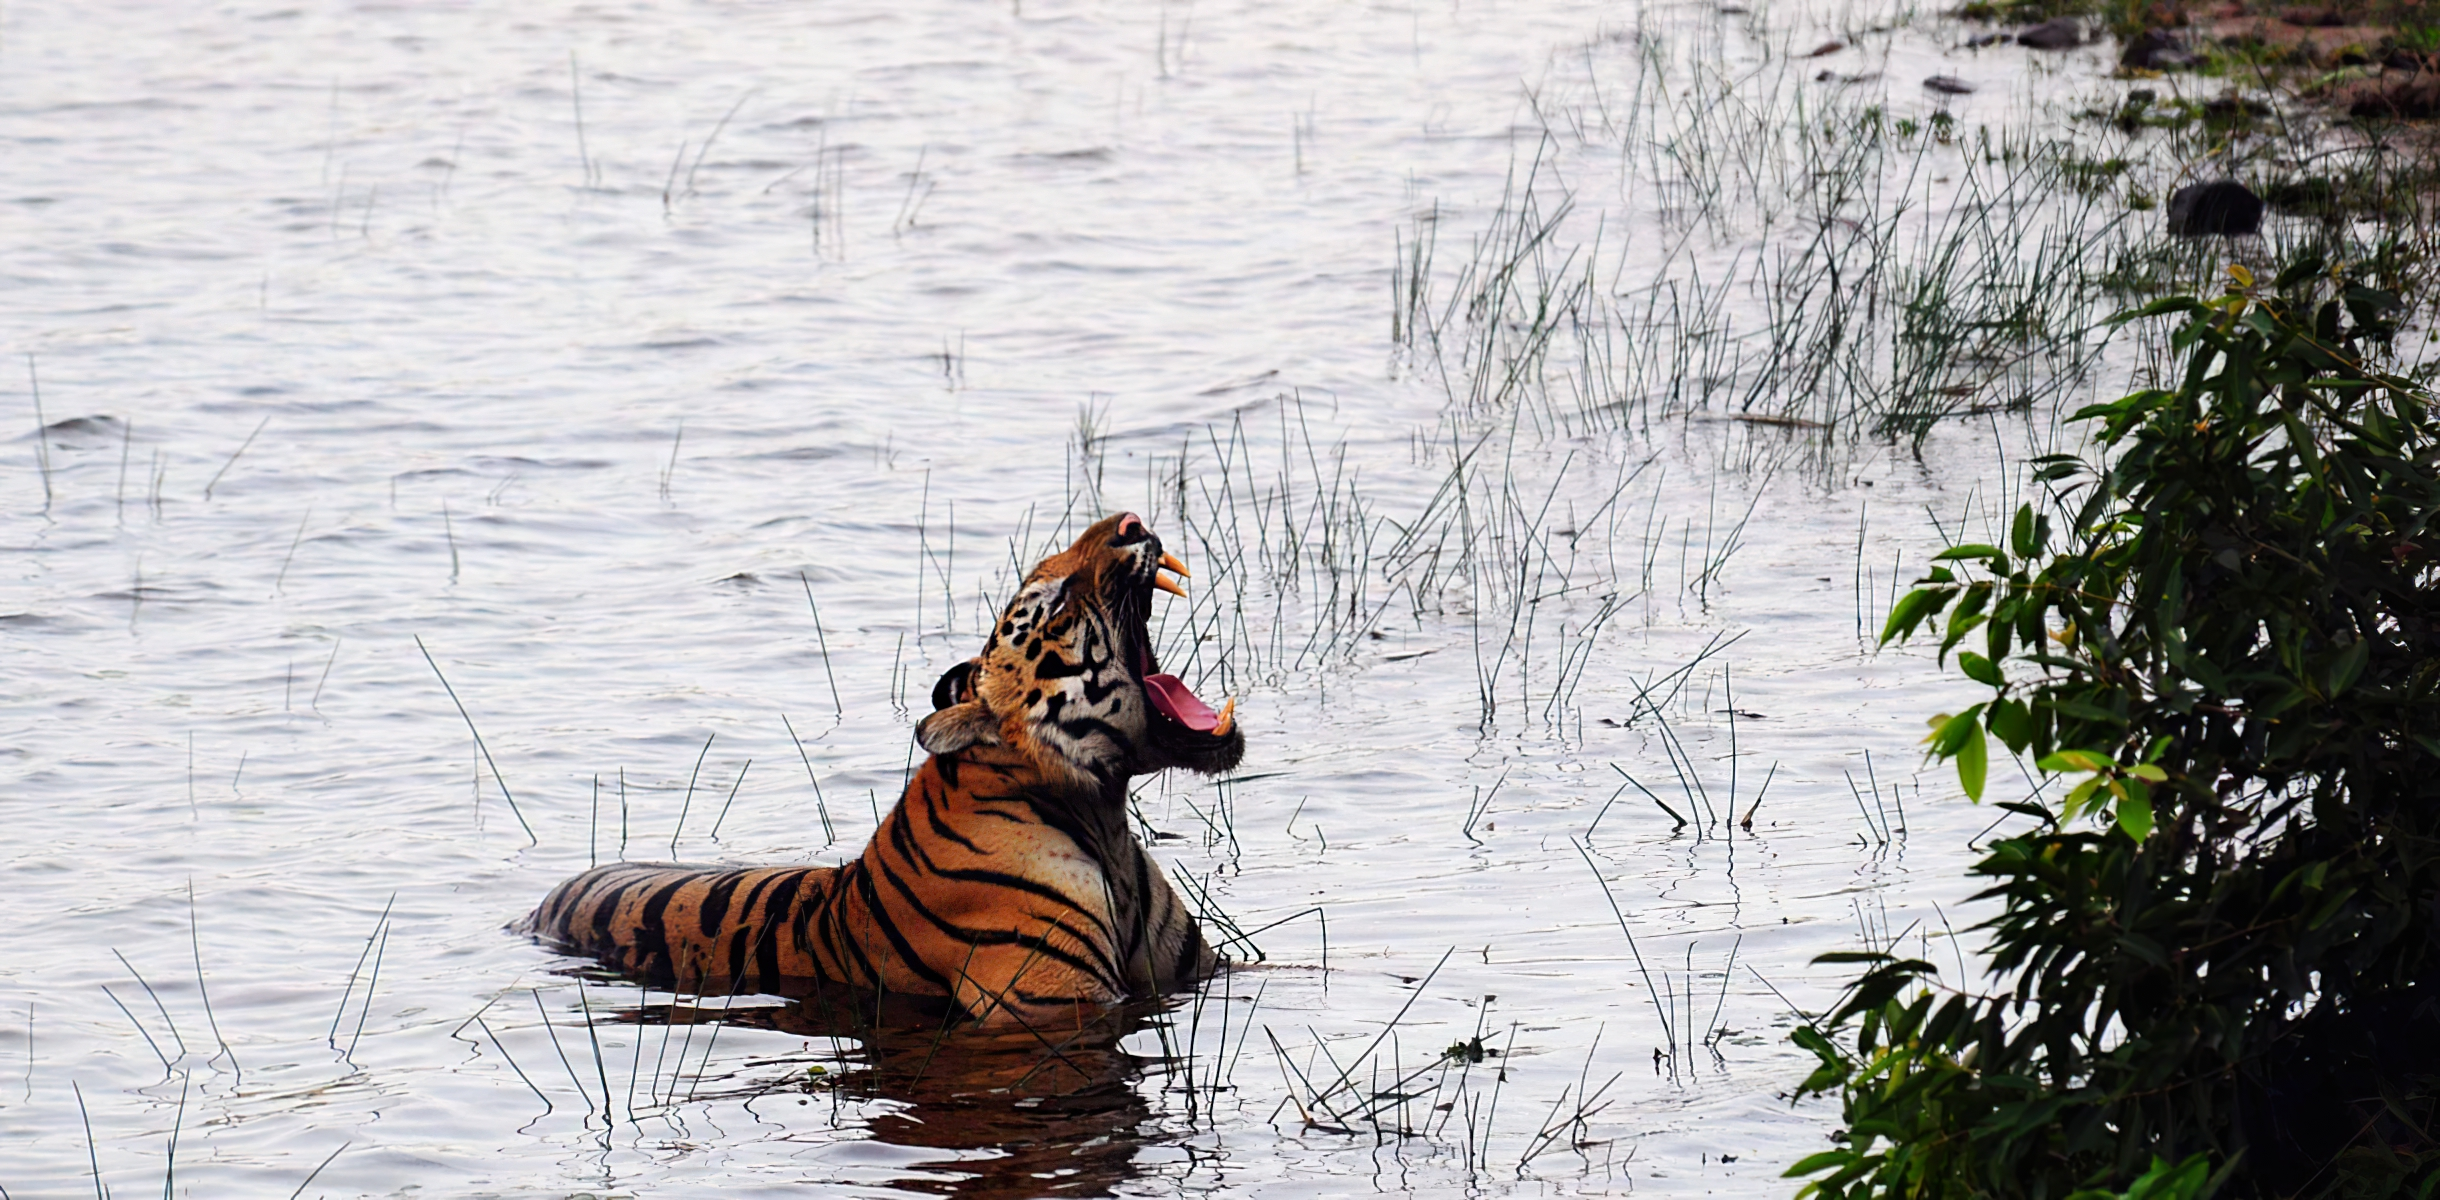tiger: (538, 520, 1349, 1122)
